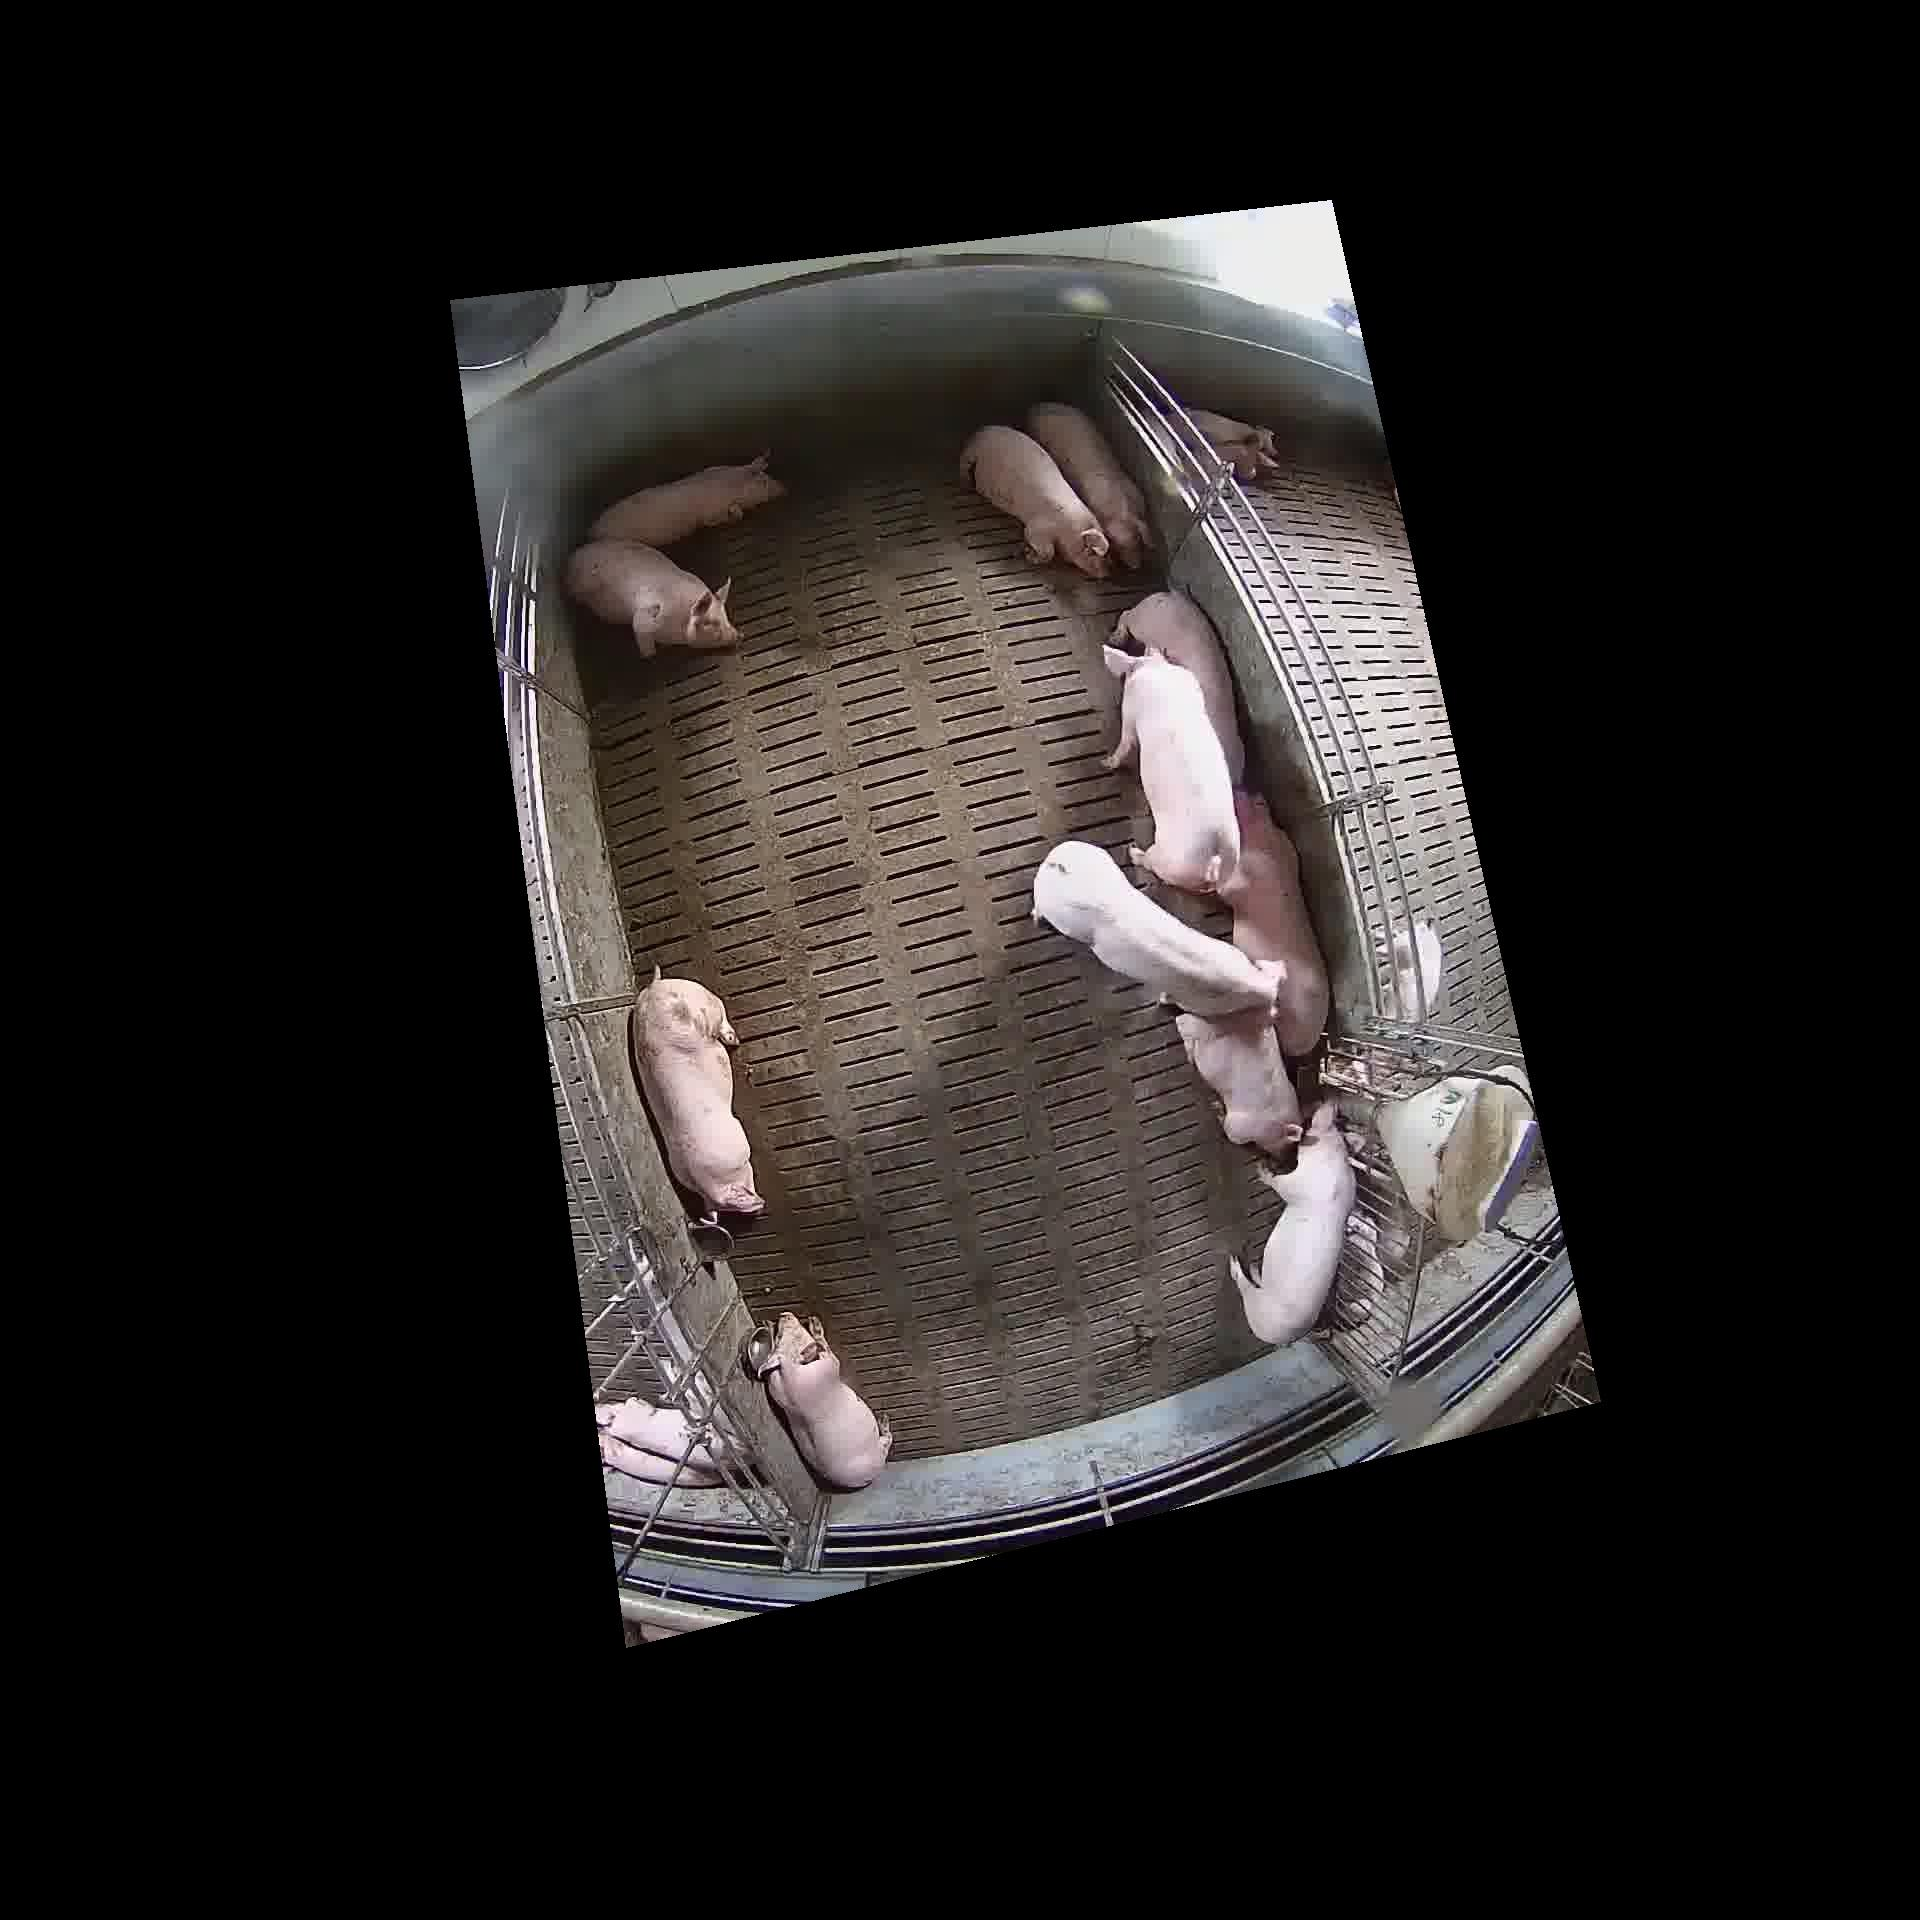pig: (1034, 840, 1280, 1020), (629, 974, 760, 1217), (1233, 1102, 1364, 1342), (1106, 652, 1238, 891), (1218, 791, 1326, 1051), (1115, 587, 1241, 784), (758, 1312, 890, 1486), (960, 425, 1106, 573), (568, 536, 737, 656), (1027, 403, 1148, 564), (587, 450, 782, 543), (1176, 1007, 1298, 1152)
